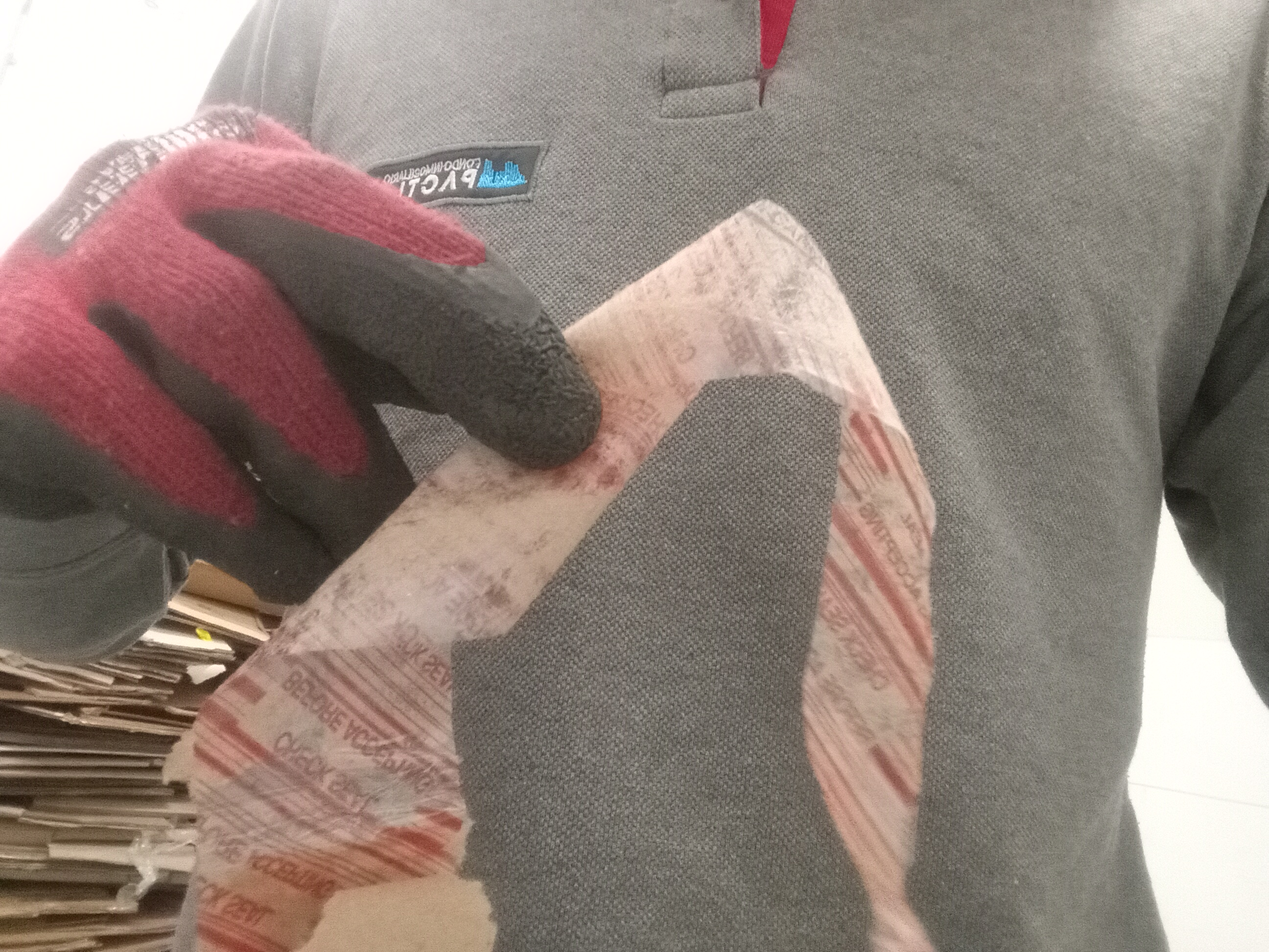Ordinario: (196, 200, 934, 947)
